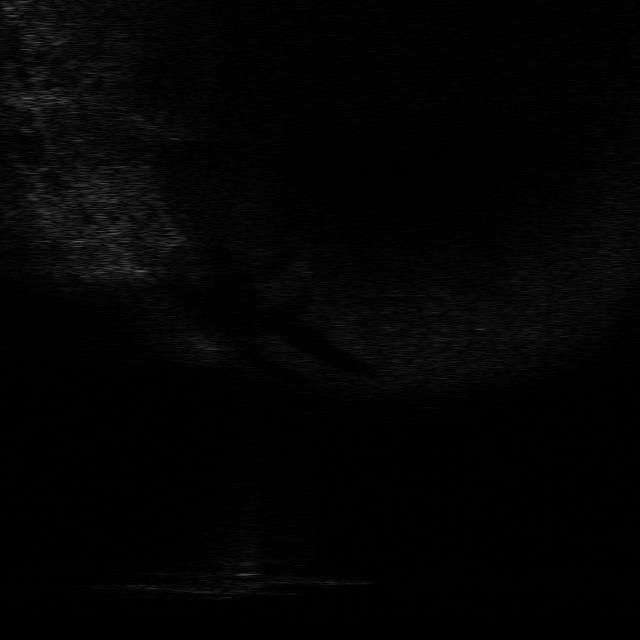plane: (121, 544, 365, 602)
